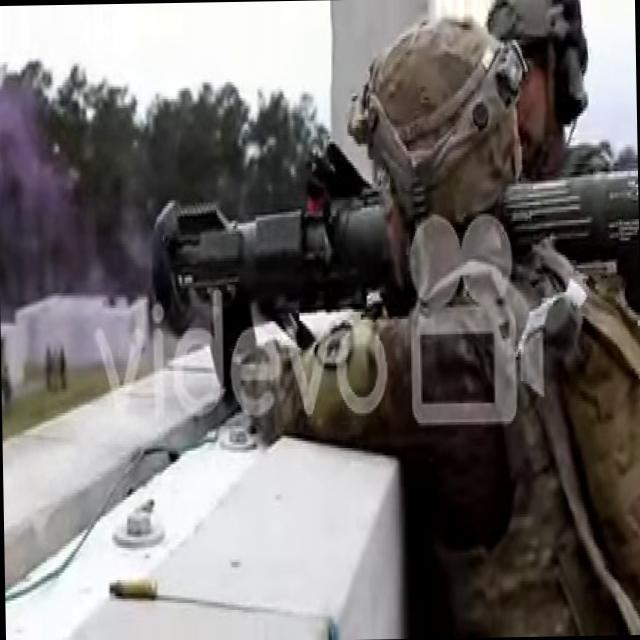rocket: (150, 169, 640, 337)
